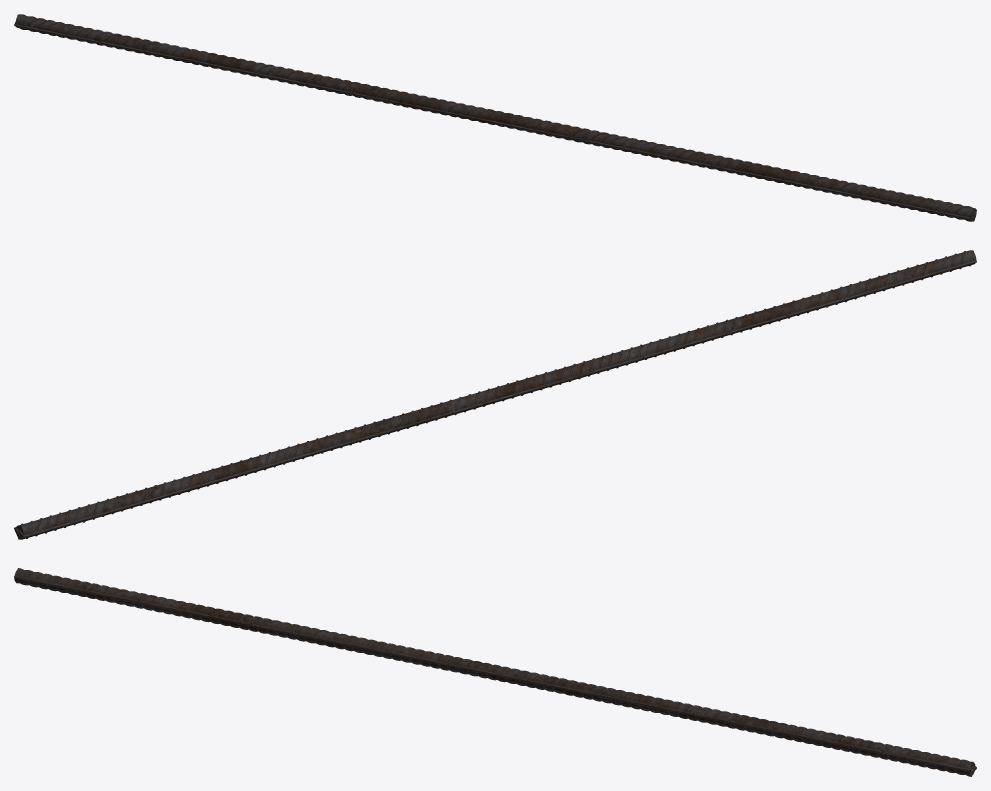
File: rebar.glb
3 renders of one model, top to bottom at view 1: azimuth 90°, elevation 25°; view 2: azimuth 150°, elevation 25°; view 3: azimuth 270°, elevation 25°, orthographic. The views are drawn at different scales.
Parts seen in each view (by area): view 1: rebar_2; view 2: rebar_2; view 3: rebar_2.
Part boxes in pixels (box(x1,y1,x2,y2)): rebar_2: box(14, 14, 976, 221); rebar_2: box(14, 250, 976, 539); rebar_2: box(14, 568, 976, 776).
Bounding box in the file's own units: 0.174 × 0.00575 × 0.3547.
Materials: 1 (1 with a texture image).
